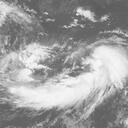cyclone: (19, 40, 112, 111)
